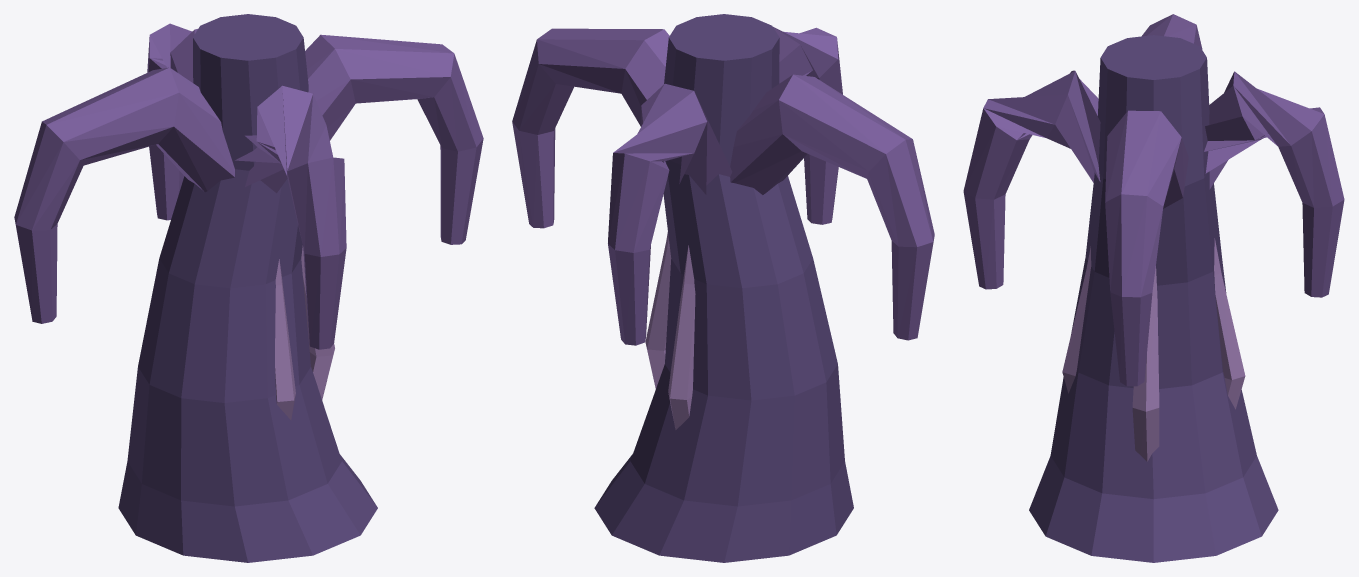
The model's file is VioletWillowTrunk.glb.
3 renders of one model, left to right at view 1: azimuth 30°, elevation 25°; view 2: azimuth 150°, elevation 25°; view 3: azimuth 270°, elevation 25°, orthographic. The views are drawn at different scales.
Parts seen in each view (by area): view 1: VioletWillowTrunk_VioletWillowBark, VioletWillowTrunk_WillowBoughs, VioletWillowTrunk_WillowRaisedGrain; view 2: VioletWillowTrunk_VioletWillowBark, VioletWillowTrunk_WillowBoughs, VioletWillowTrunk_WillowRaisedGrain; view 3: VioletWillowTrunk_VioletWillowBark, VioletWillowTrunk_WillowBoughs, VioletWillowTrunk_WillowRaisedGrain.
Part boxes in pixels (x1=…): VioletWillowTrunk_VioletWillowBark: x1=118, y1=14, x2=377, y2=562; VioletWillowTrunk_WillowBoughs: x1=14, y1=23, x2=483, y2=349; VioletWillowTrunk_WillowRaisedGrain: x1=275, y1=245, x2=334, y2=420; VioletWillowTrunk_VioletWillowBark: x1=594, y1=14, x2=853, y2=562; VioletWillowTrunk_WillowBoughs: x1=512, y1=27, x2=934, y2=345; VioletWillowTrunk_WillowRaisedGrain: x1=645, y1=232, x2=695, y2=429; VioletWillowTrunk_VioletWillowBark: x1=1029, y1=35, x2=1278, y2=562; VioletWillowTrunk_WillowBoughs: x1=963, y1=14, x2=1344, y2=386; VioletWillowTrunk_WillowRaisedGrain: x1=1062, y1=238, x2=1245, y2=461.
Size of the model in its own units: 2.93 by 3 by 2.29.
